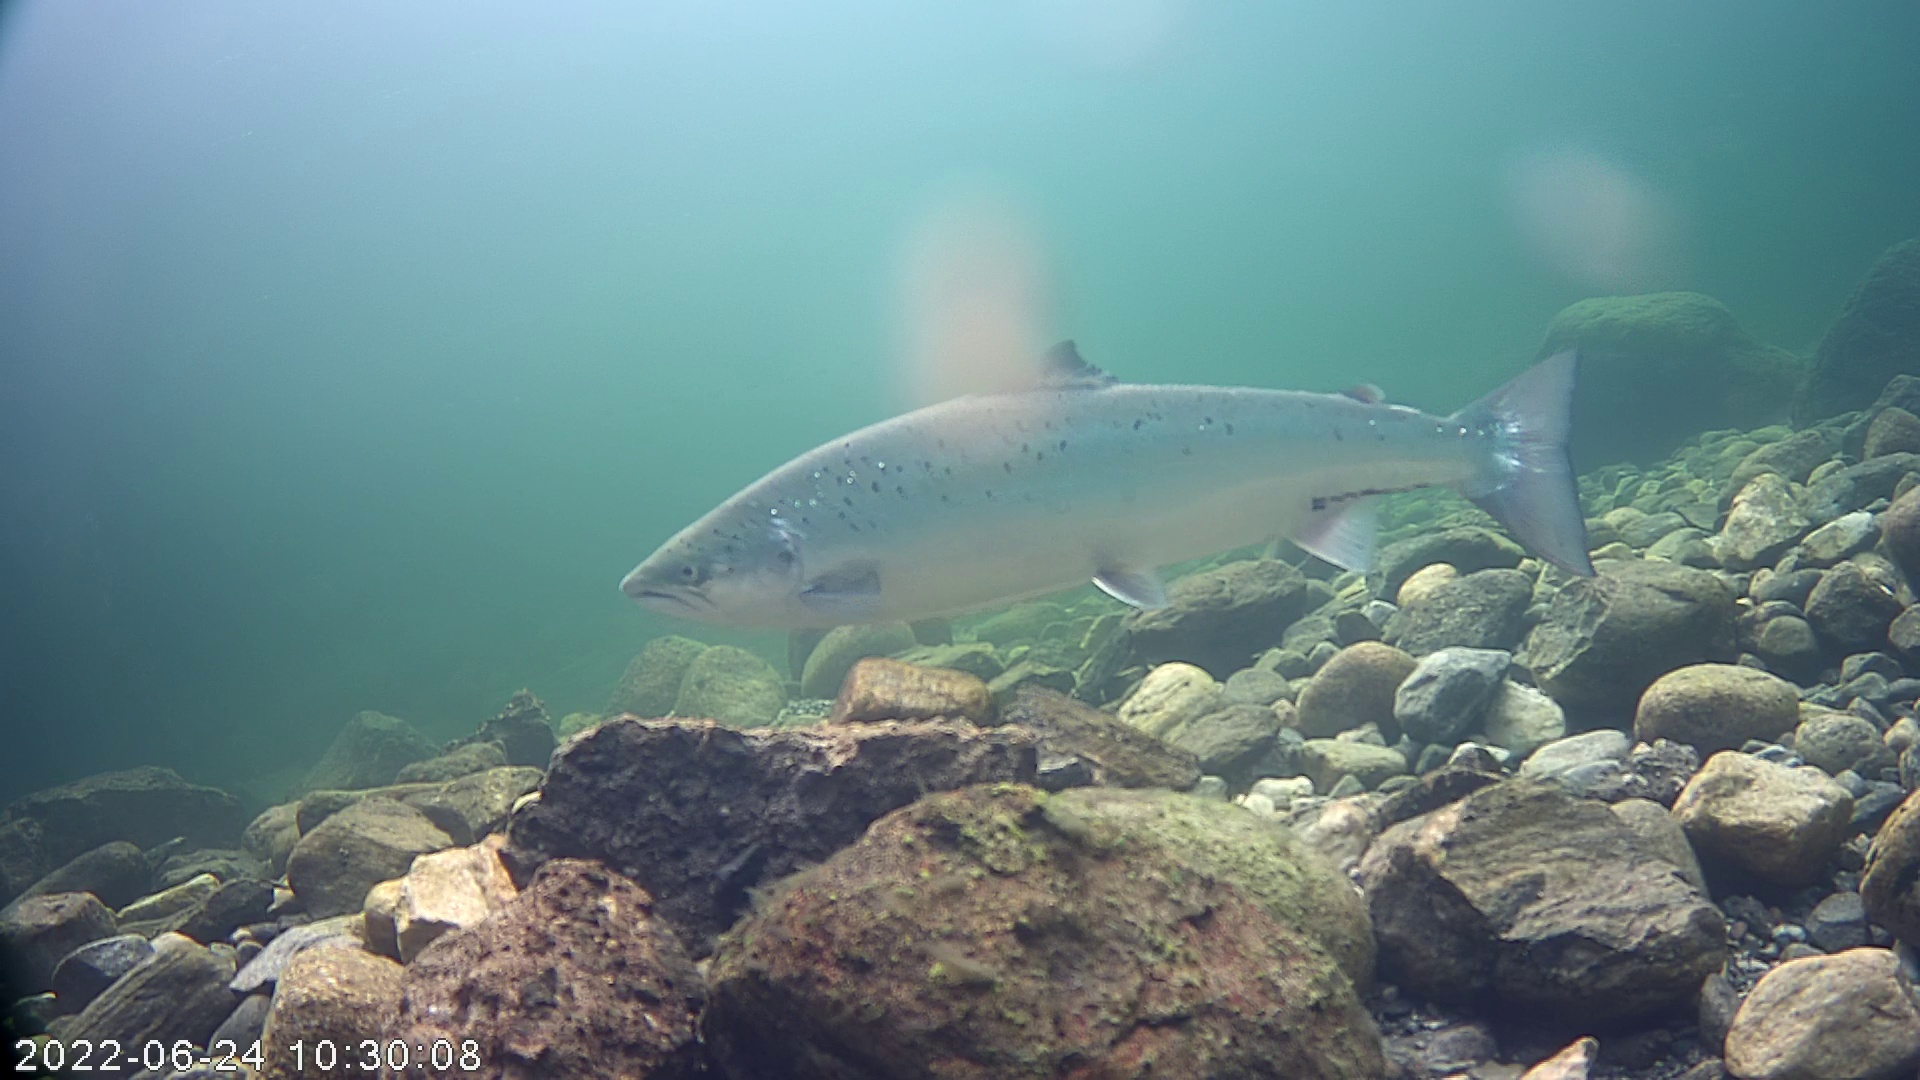salmon: (617, 338, 1600, 634)
